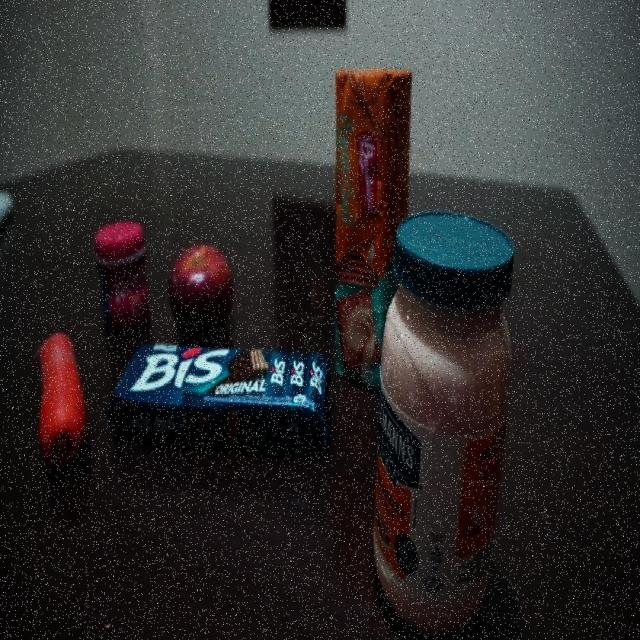Apple: (166, 240, 232, 342)
Carrot: (36, 326, 91, 474)
Cracker: (331, 65, 413, 402)
Mayonnaise: (371, 207, 518, 640)
Yeast: (91, 217, 152, 337)
